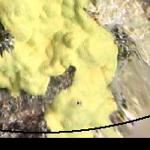alive: (6, 2, 148, 137)
